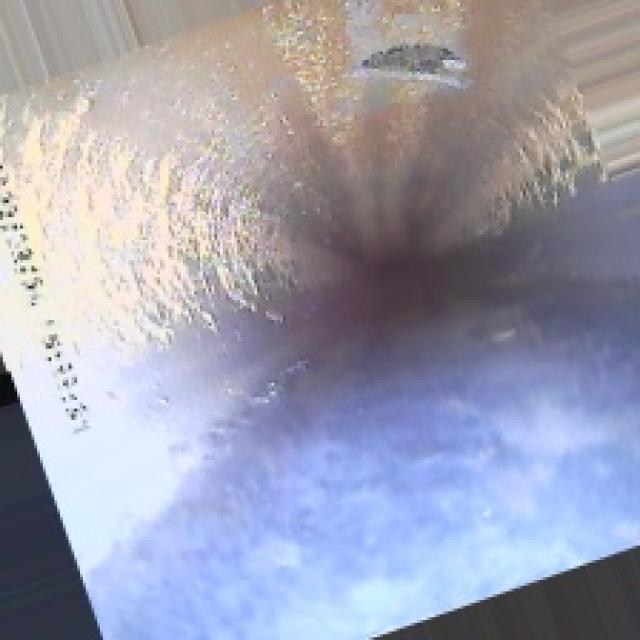pipe_surface_damage: (349, 32, 480, 94)
